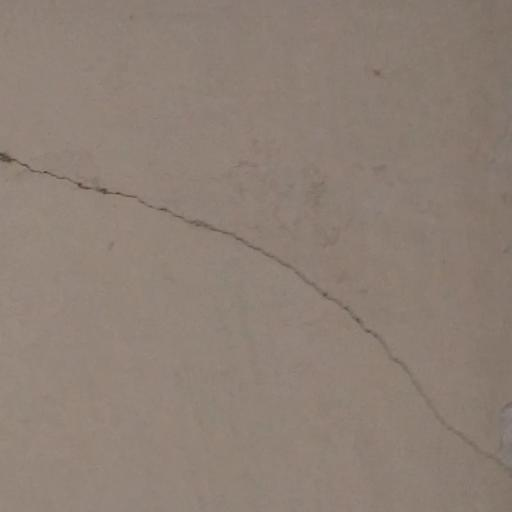minor_crack: (0, 133, 512, 482)
